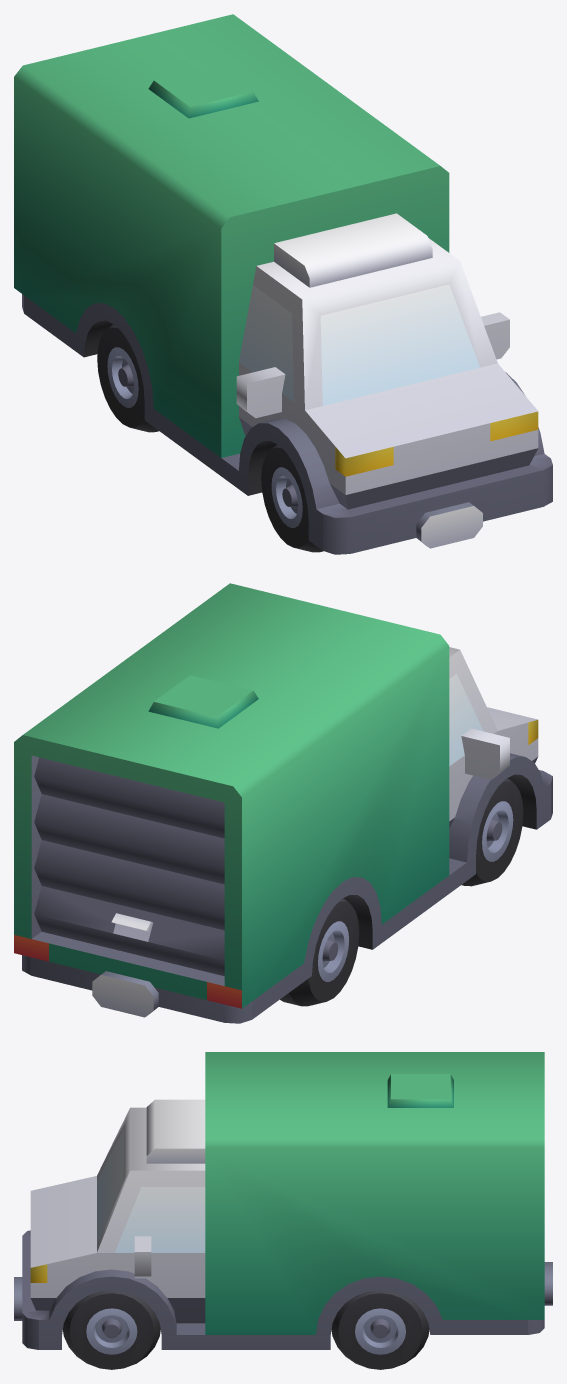
Rendered from delivery.fbx.
The picture shows the model from 3 angles, top to bottom: view 1: azimuth 30°, elevation 25°; view 2: azimuth 150°, elevation 25°; view 3: azimuth 270°, elevation 25°; orthographic projection. The views are drawn at different scales.
Visible parts, largest first — view 1: body, wheel-front-right, wheel-back-right; view 2: body, door, wheel-back-right, wheel-front-right; view 3: body, wheel-back-left, wheel-front-left.
Part boxes in pixels (x1=…): body: x1=14, y1=14, x2=552, y2=554; wheel-front-right: x1=261, y1=444, x2=323, y2=552; wheel-back-right: x1=97, y1=324, x2=158, y2=432; body: x1=14, y1=583, x2=552, y2=1023; door: x1=34, y1=757, x2=224, y2=976; wheel-back-right: x1=280, y1=898, x2=359, y2=1006; wheel-front-right: x1=461, y1=778, x2=523, y2=886; body: x1=14, y1=1052, x2=552, y2=1349; wheel-back-left: x1=331, y1=1290, x2=429, y2=1369; wheel-front-left: x1=63, y1=1290, x2=160, y2=1369.
Size of the model in its own units: 150 by 165 by 325.
1 material, 1 textured.
